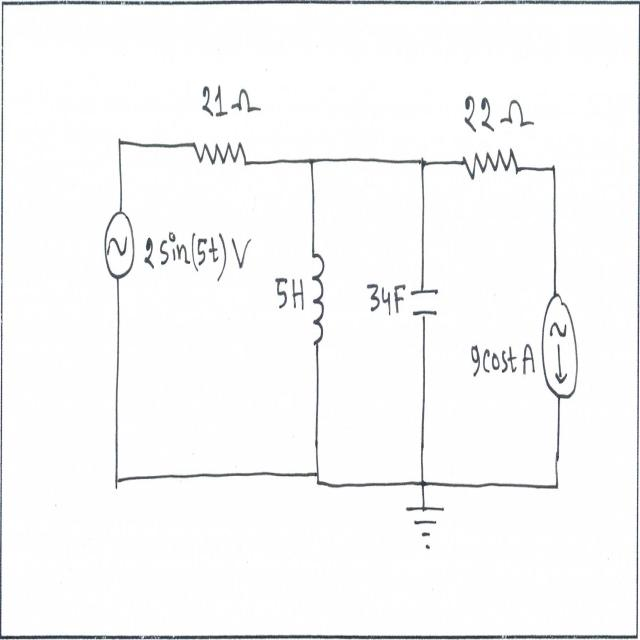ac_current: (101, 200, 138, 291)
capacitor: (411, 270, 442, 326)
current_source: (539, 286, 581, 404)
ground: (404, 495, 448, 558)
inductor: (306, 245, 331, 354)
resistor: (454, 142, 520, 193), (186, 130, 253, 180)
